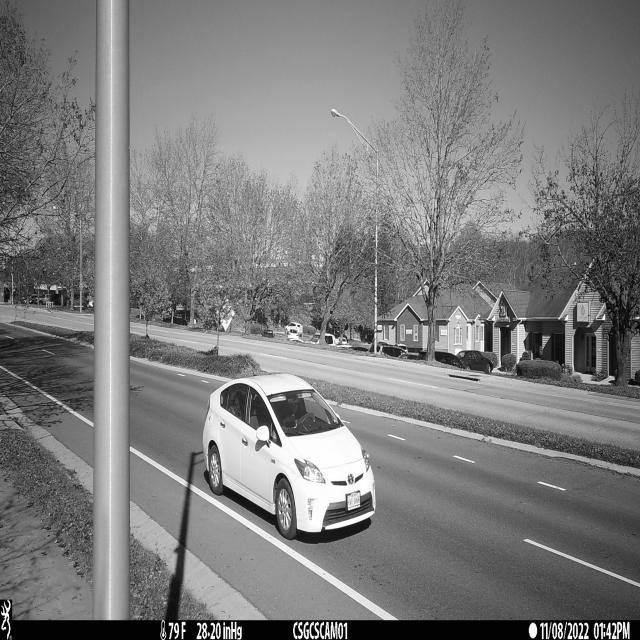Hatchback: (203, 374, 378, 541)
